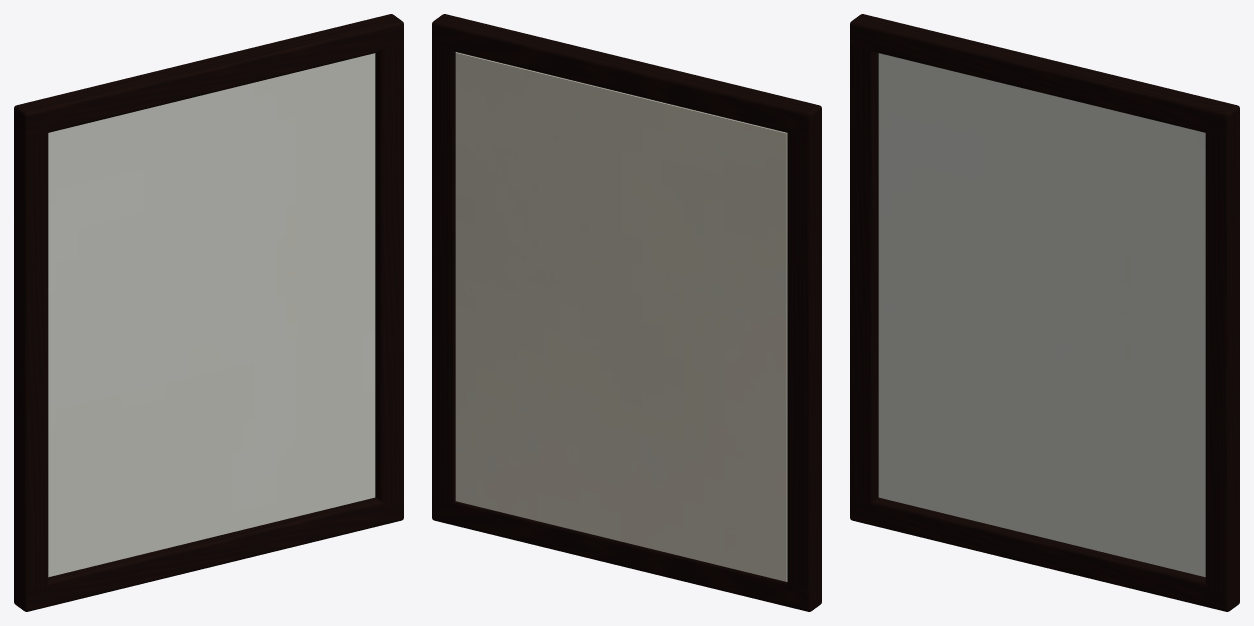
Rendered from razoredge-modern-picture-frame.glb.
3 views of the same model, side by side, from view 1: azimuth 30°, elevation 25°; view 2: azimuth 150°, elevation 25°; view 3: azimuth 330°, elevation 25° (orthographic).
Parts seen in each view (by area): view 1: mat, frame_left, frame_right, frame_top, frame_bottom; view 2: canvas, frame_left, frame_top, frame_right, frame_bottom, mat; view 3: mat, frame_right, frame_left, frame_top, frame_bottom.
Part boxes in pixels (x1,y1,x2,y2): mat: (48, 53, 375, 577); frame_left: (14, 101, 48, 611); frame_right: (373, 14, 403, 524); frame_top: (14, 14, 403, 135); frame_bottom: (14, 497, 403, 611); canvas: (455, 52, 786, 581); frame_left: (787, 101, 821, 611); frame_top: (432, 14, 821, 135); frame_right: (432, 14, 462, 524); frame_bottom: (432, 499, 821, 611); mat: (456, 52, 787, 581); mat: (878, 53, 1205, 577); frame_right: (1205, 101, 1239, 611); frame_left: (850, 14, 880, 524); frame_top: (850, 14, 1239, 135); frame_bottom: (850, 497, 1239, 611).
Bounding box in the file's own units: 0.78 × 0.98 × 0.045.
3 materials, 3 textured.
